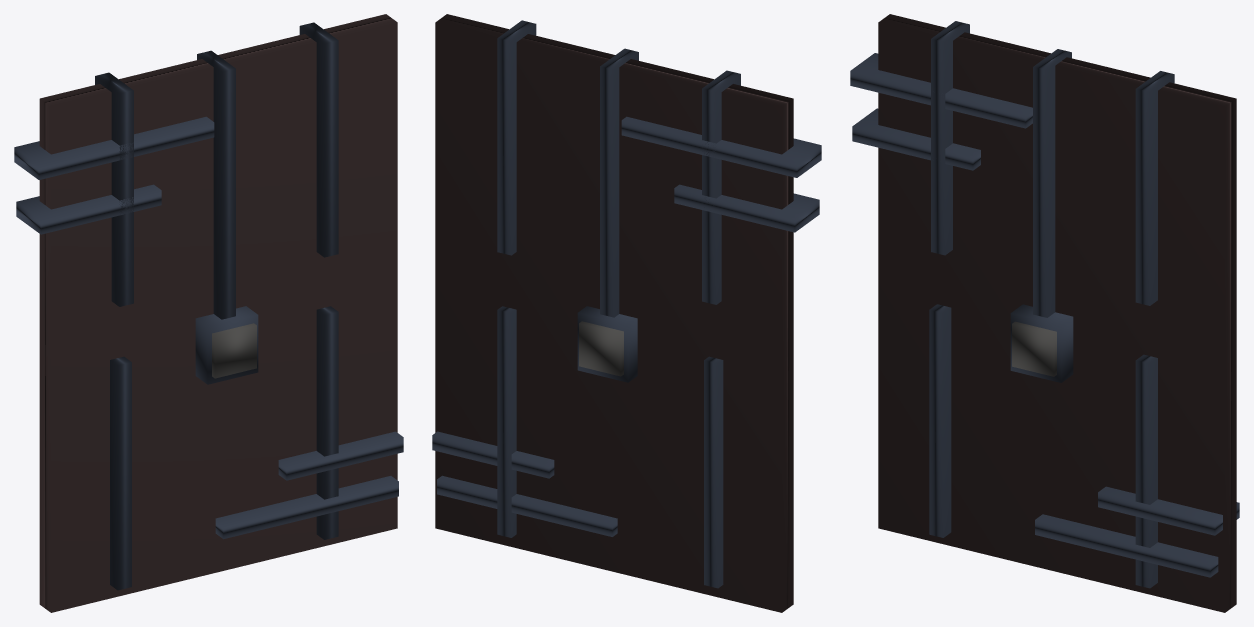
The model's file is door small 1.fbx.
3 views of the same model, side by side, from view 1: azimuth 30°, elevation 25°; view 2: azimuth 150°, elevation 25°; view 3: azimuth 330°, elevation 25° (orthographic).
Visible parts, largest first — view 1: PM3D_Cube3D1_218; view 2: PM3D_Cube3D1_218; view 3: PM3D_Cube3D1_218.
Part boxes in pixels (left/top/right/bottom): PM3D_Cube3D1_218: left=14, top=14, right=403, bottom=612; PM3D_Cube3D1_218: left=432, top=14, right=821, bottom=612; PM3D_Cube3D1_218: left=850, top=14, right=1239, bottom=612.
Size of the model in its own units: 218 by 289 by 40.01.
